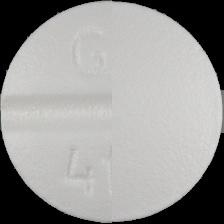0781-1223: (0, 0, 224, 224)
